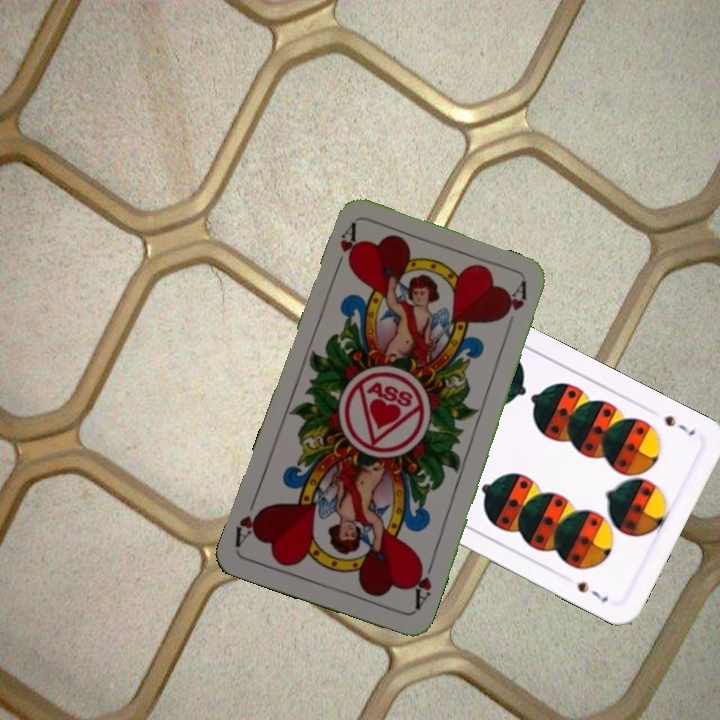HA: (329, 220, 363, 277), (407, 556, 437, 612)
S7: (660, 411, 698, 439)
